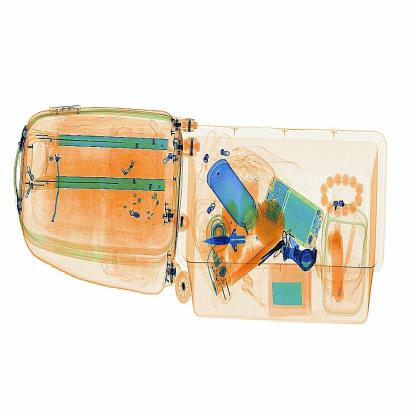gun: (199, 212, 267, 265)
